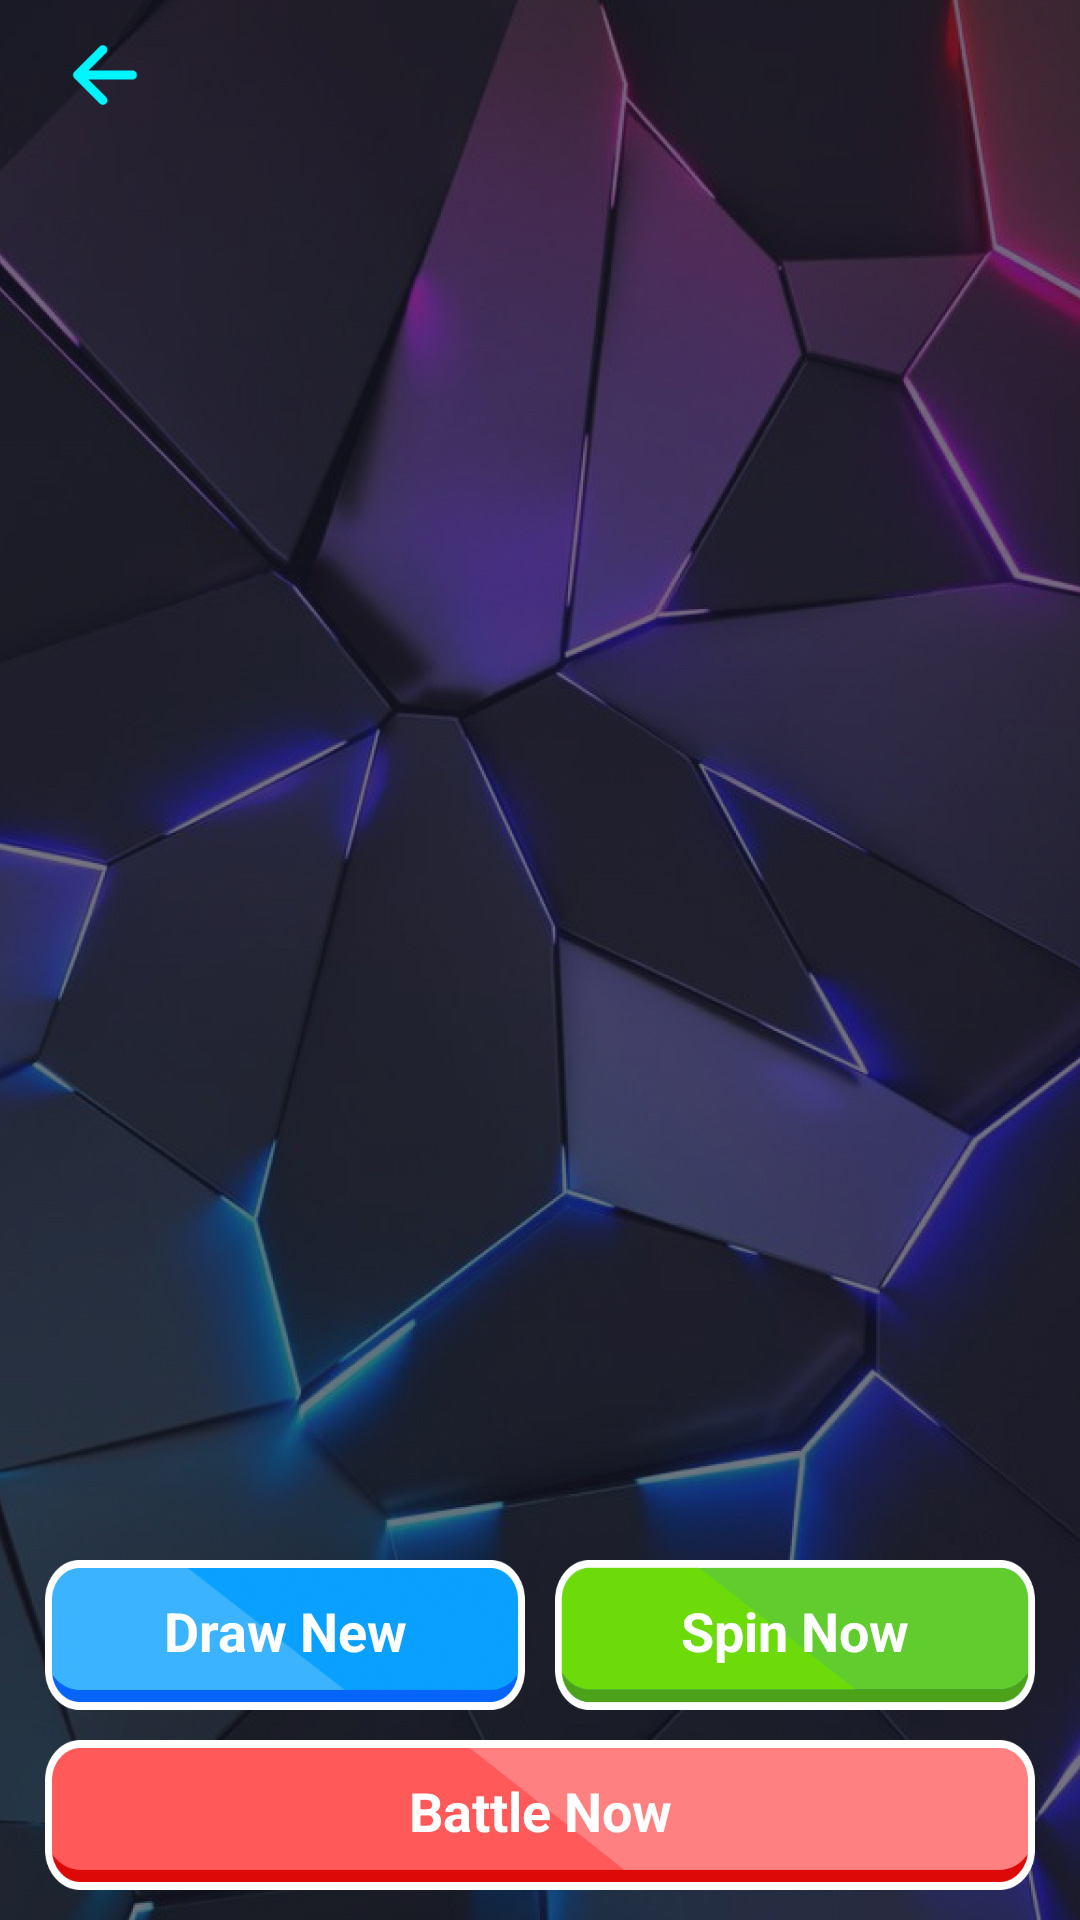

Point at icon controls on the screen. Image size 1080 x 1920, points as (x,y).
back: (105,75)
